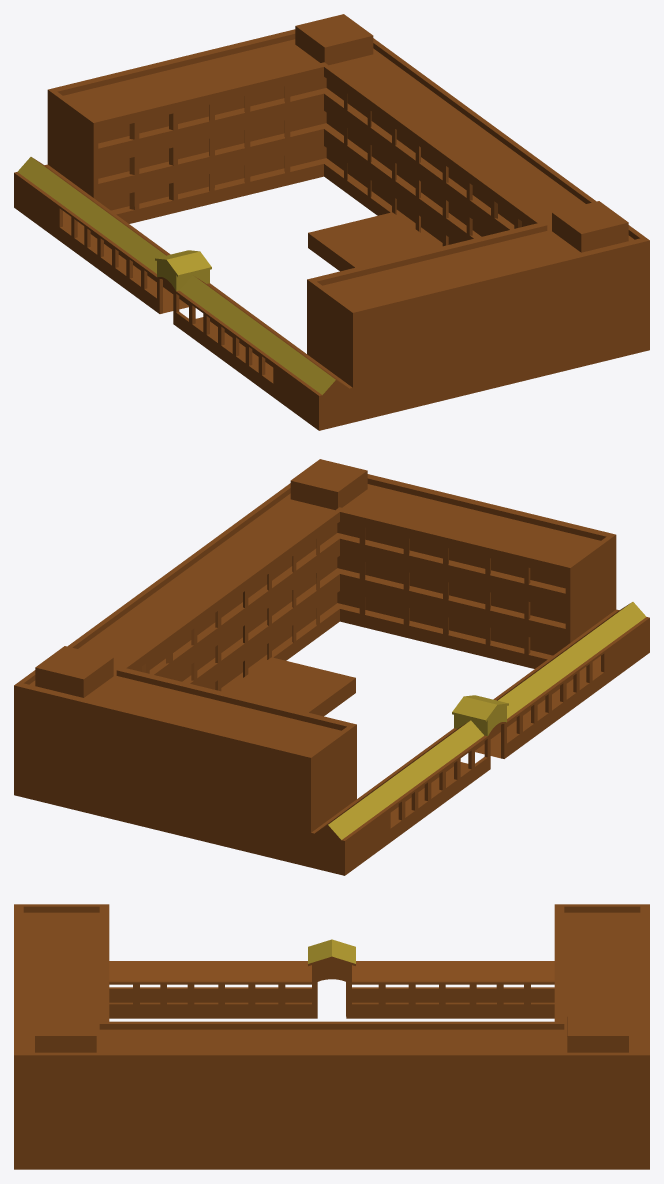
Rendered from truong.fbx.
3 views of the same model, one above another, from view 1: azimuth 30°, elevation 25°; view 2: azimuth 150°, elevation 25°; view 3: azimuth 270°, elevation 25° (orthographic). The views are drawn at different scales.
Parts seen in each view (by area): view 1: Cube; view 2: Cube; view 3: Cube.
Boxes of the visible parts, bbox=[...] form: Cube: bbox=[14, 14, 649, 430]; Cube: bbox=[14, 459, 649, 875]; Cube: bbox=[14, 904, 649, 1169].
Size of the model in its own units: 1983 by 704 by 3168.
